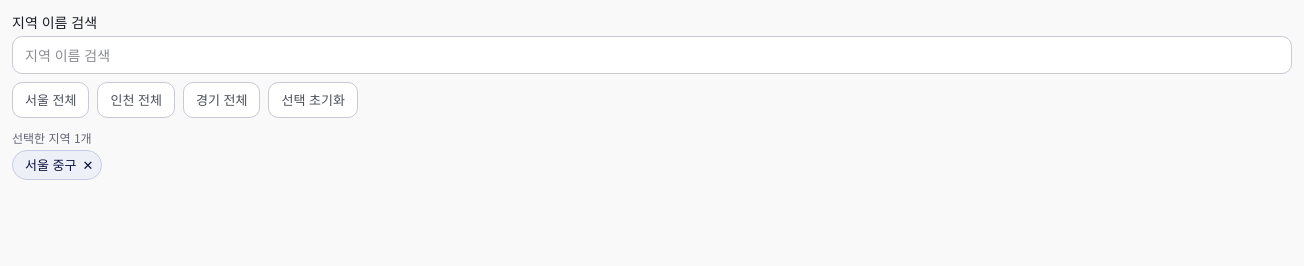
Test: ARIA combobox contract › marks a selected option with aria-selected and a text indicator, not color alone
The width and height of the screenshot is (1304, 266).
Focus the dropdown with test id "facility-cost-region-search" at [652, 55], box [12,36,1292,74]
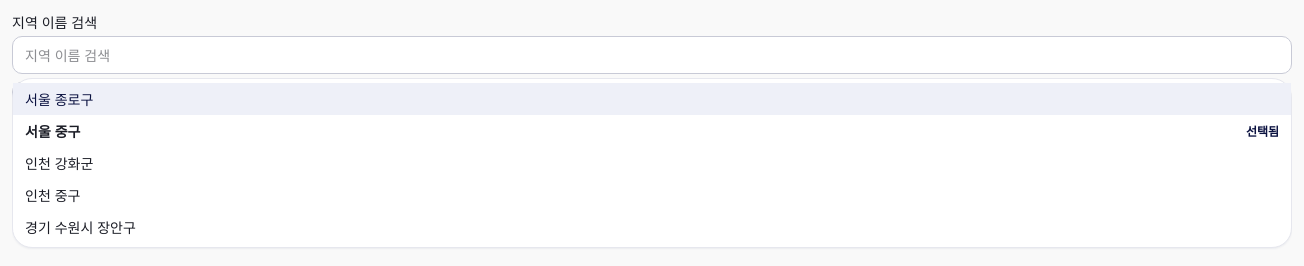
Expected: the option with test id "facility-cost-region-option" shows "선택됨", [13,115,1291,147]
